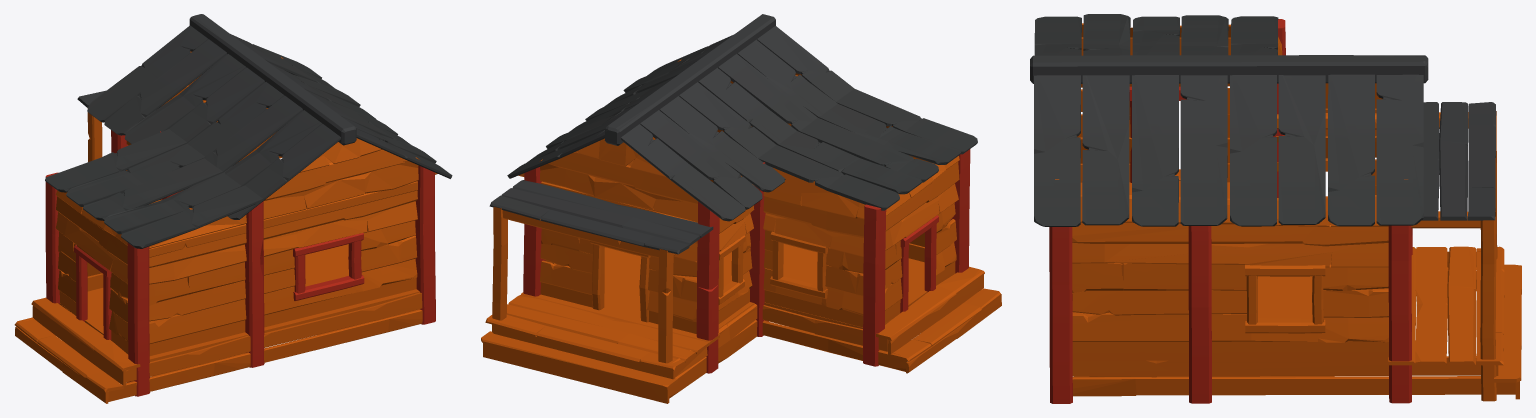
Rendered from Woodhouse_1.fbx.
3 views of the same model, side by side, from view 1: azimuth 30°, elevation 25°; view 2: azimuth 150°, elevation 25°; view 3: azimuth 270°, elevation 25° (orthographic). The views are drawn at different scales.
Visible parts, largest first — view 1: House1; view 2: House1; view 3: House1.
Part boxes in pixels (x1,y1,x2,y2): House1: (14,14,452,403); House1: (481,14,1001,403); House1: (1030,14,1521,403).
Size of the model in its own units: 436 by 272 by 418.
